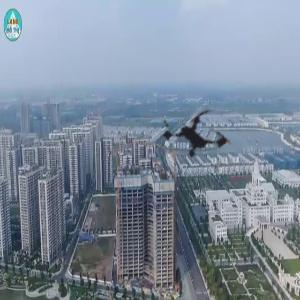drone: (130, 72, 261, 203)
